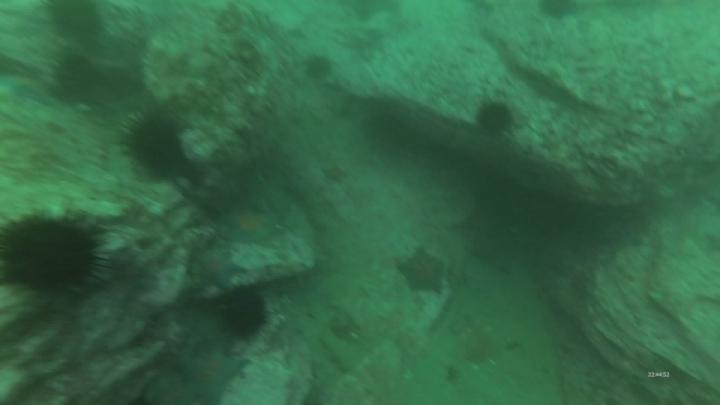echinus: (1, 209, 109, 304), (117, 112, 193, 181), (221, 283, 273, 353), (54, 57, 107, 115), (52, 1, 103, 41), (476, 99, 519, 142), (537, 1, 582, 20), (303, 56, 333, 82)
starfish: (223, 198, 288, 248), (398, 247, 454, 299)
